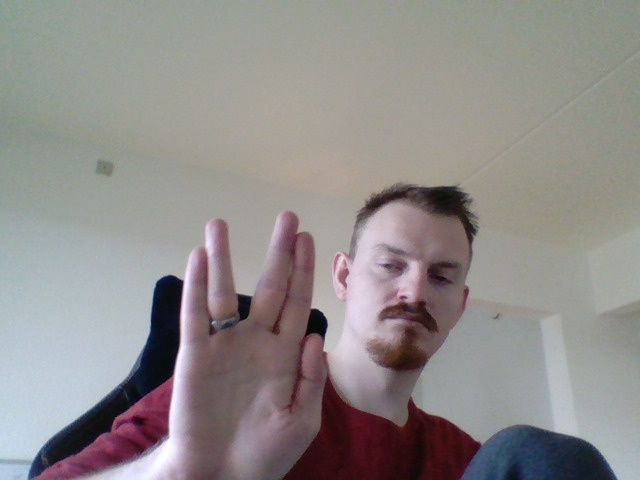LiveLong: (175, 210, 327, 479)
